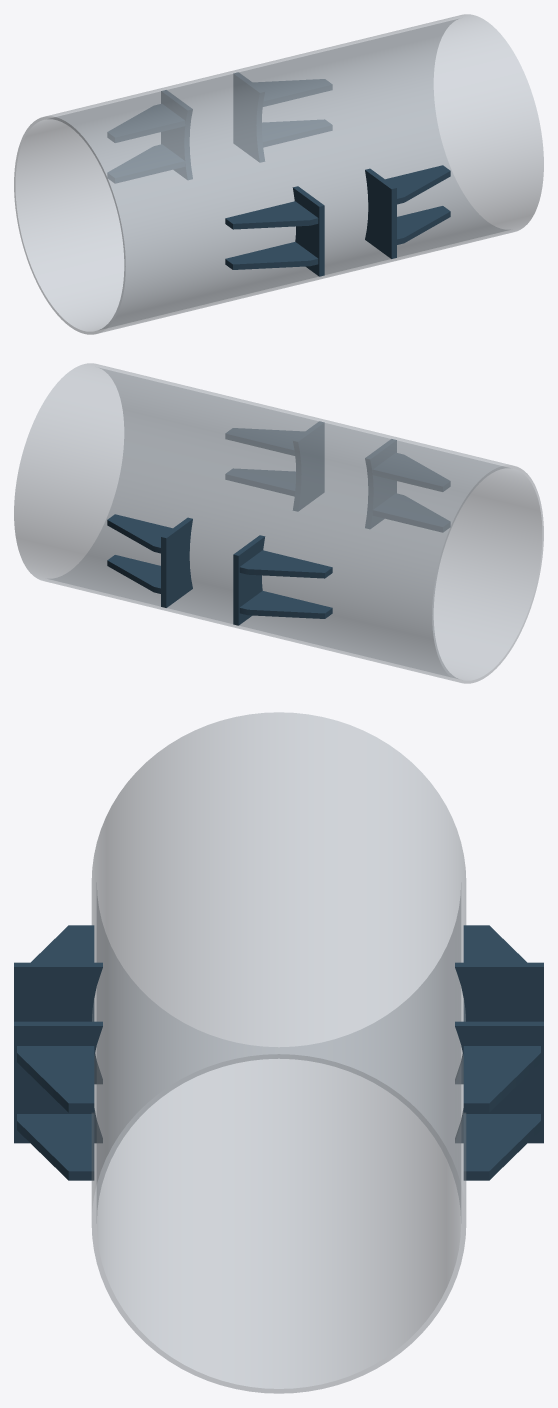
The model's file is TS-665.00.00-opora-dn530.glb.
The picture shows the model from 3 angles, top to bottom: view 1: azimuth 30°, elevation 25°; view 2: azimuth 150°, elevation 25°; view 3: azimuth 270°, elevation 25°; orthographic projection. The views are drawn at different scales.
Visible parts, largest first — view 1: truba, upor_1, upor_7, upor_5, upor_6, upor_4, upor_12, upor_11, upor_10, upor_9, upor_8, upor_2 (+1 smaller); view 2: truba, upor_7, upor_1, upor_12, upor_11, upor_10, upor_5, upor_6, upor_4, upor_2, upor_3, upor_9 (+1 smaller); view 3: truba, upor_4, upor_10, upor_1, upor_7, upor_2, upor_9, upor_3, upor_8, upor_5, upor_12.
Part boxes in pixels (bbox=[...]): truba: bbox=[14, 14, 543, 334]; upor_1: bbox=[365, 168, 396, 258]; upor_7: bbox=[233, 72, 264, 162]; upor_5: bbox=[225, 201, 318, 229]; upor_6: bbox=[225, 242, 318, 269]; upor_4: bbox=[292, 186, 324, 276]; upor_12: bbox=[107, 104, 184, 142]; upor_11: bbox=[107, 144, 184, 183]; upor_10: bbox=[161, 90, 192, 179]; upor_9: bbox=[254, 79, 332, 106]; upor_8: bbox=[262, 119, 332, 146]; upor_2: bbox=[385, 165, 450, 204]; truba: bbox=[14, 363, 543, 683]; upor_7: bbox=[161, 517, 192, 607]; upor_1: bbox=[293, 421, 324, 511]; upor_12: bbox=[239, 550, 332, 578]; upor_11: bbox=[239, 591, 332, 618]; upor_10: bbox=[233, 535, 265, 625]; upor_5: bbox=[373, 453, 450, 491]; upor_6: bbox=[373, 493, 450, 532]; upor_4: bbox=[365, 439, 396, 528]; upor_2: bbox=[225, 428, 303, 455]; upor_3: bbox=[225, 468, 295, 495]; upor_9: bbox=[107, 514, 172, 553]; truba: bbox=[91, 712, 466, 1393]; upor_4: bbox=[14, 962, 102, 1084]; upor_10: bbox=[455, 962, 543, 1084]; upor_1: bbox=[14, 1021, 102, 1143]; upor_7: bbox=[455, 1021, 543, 1143]; upor_2: bbox=[17, 1046, 94, 1112]; upor_9: bbox=[463, 1046, 540, 1112]; upor_3: bbox=[17, 1114, 94, 1180]; upor_8: bbox=[463, 1114, 540, 1180]; upor_5: bbox=[31, 925, 94, 962]; upor_12: bbox=[463, 925, 526, 962].
Size of the model in its own units: 1252 by 580 by 820.
